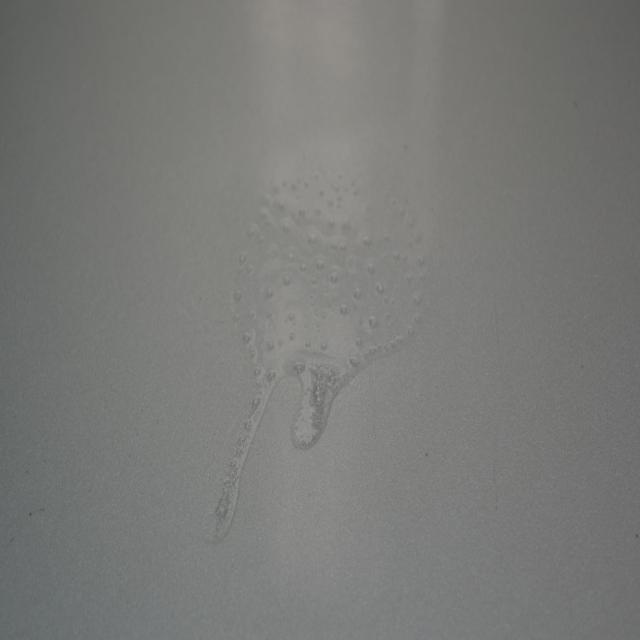dirt: (27, 500, 48, 524), (424, 450, 429, 461)
runs: (201, 170, 431, 546)
